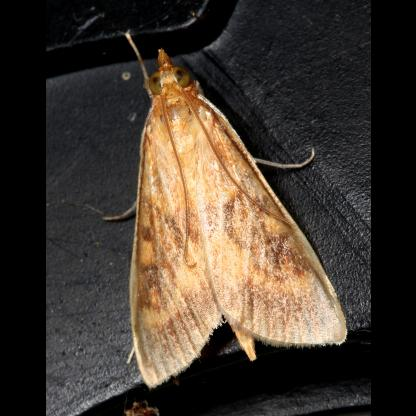Asian Corn Borer Moth: (98, 25, 352, 393)
